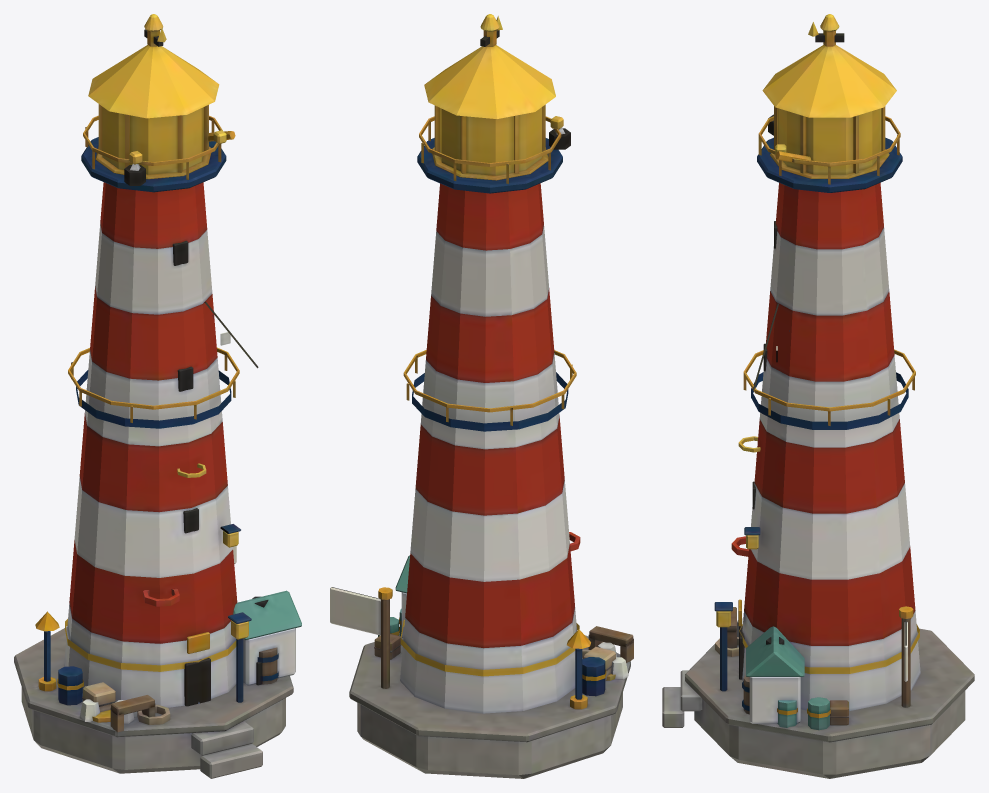
File: lighthouse-30.glb
The picture shows the model from 3 angles, left to right: view 1: azimuth 30°, elevation 25°; view 2: azimuth 150°, elevation 25°; view 3: azimuth 270°, elevation 25°; orthographic projection.
Visible parts, largest first — view 1: lighthouse-30; view 2: lighthouse-30; view 3: lighthouse-30.
Part boxes in pixels (x1,y1,x2,y2): lighthouse-30: (14, 14, 301, 778); lighthouse-30: (330, 14, 633, 778); lighthouse-30: (662, 14, 974, 778).
Size of the model in its own units: 1.59 by 4.3 by 1.72.
Materials: 1 (1 with a texture image).
